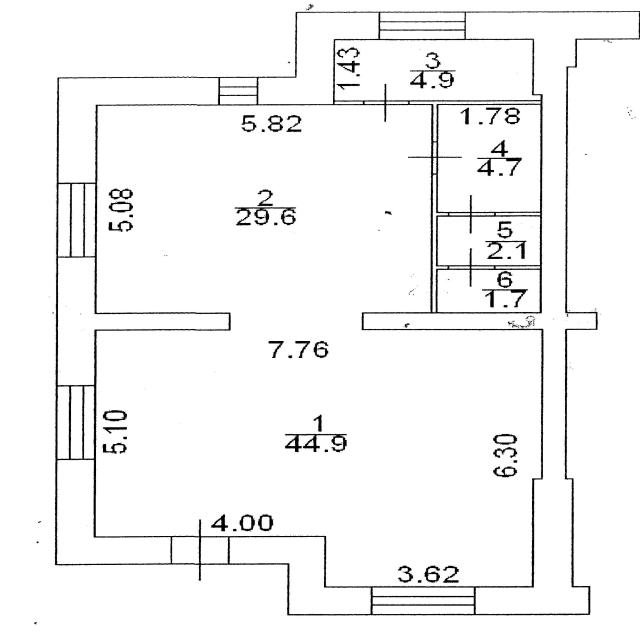Corridors: (336, 40, 539, 99)
Doors: (170, 518, 230, 582), (448, 247, 496, 288), (448, 194, 496, 234), (407, 142, 463, 175), (363, 83, 408, 122)
LBwalls: (57, 76, 218, 182), (54, 461, 170, 566), (258, 11, 379, 106), (229, 536, 369, 616), (466, 11, 640, 68), (56, 258, 96, 385), (532, 478, 574, 586), (475, 586, 591, 616)
Offices: (96, 106, 541, 587)
Walls: (362, 67, 598, 479), (95, 313, 231, 331), (335, 100, 364, 106)
Windows: (370, 586, 475, 616), (55, 385, 97, 460), (56, 183, 97, 257), (378, 11, 466, 40), (218, 77, 258, 105)
